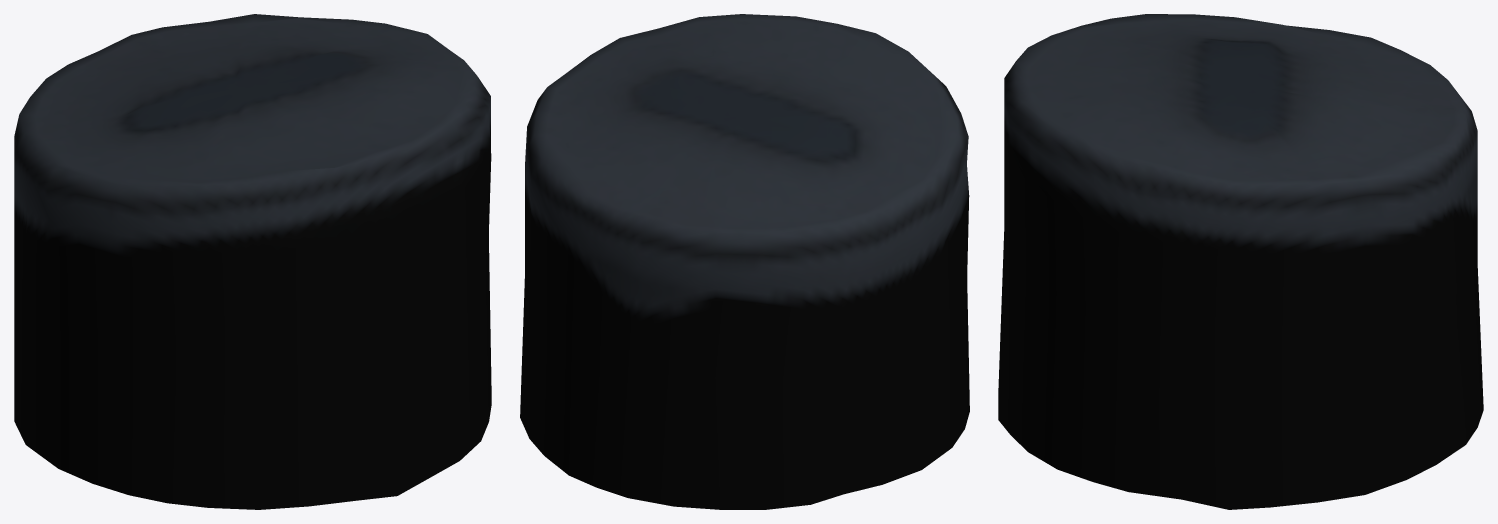
File: left_app_button.obj
The picture shows the model from 3 angles, left to right: view 1: azimuth 30°, elevation 25°; view 2: azimuth 150°, elevation 25°; view 3: azimuth 270°, elevation 25°; orthographic projection. The views are drawn at different scales.
Visible parts, largest first — view 1: left_app_button; view 2: left_app_button; view 3: left_app_button.
Boxes of the visible parts, bbox=[...] form: left_app_button: bbox=[14, 14, 491, 509]; left_app_button: bbox=[520, 14, 969, 509]; left_app_button: bbox=[998, 14, 1483, 509].
Size of the model in its own units: 0.0081 by 0.0063 by 0.0082.
Materials: 1 (1 with a texture image).
